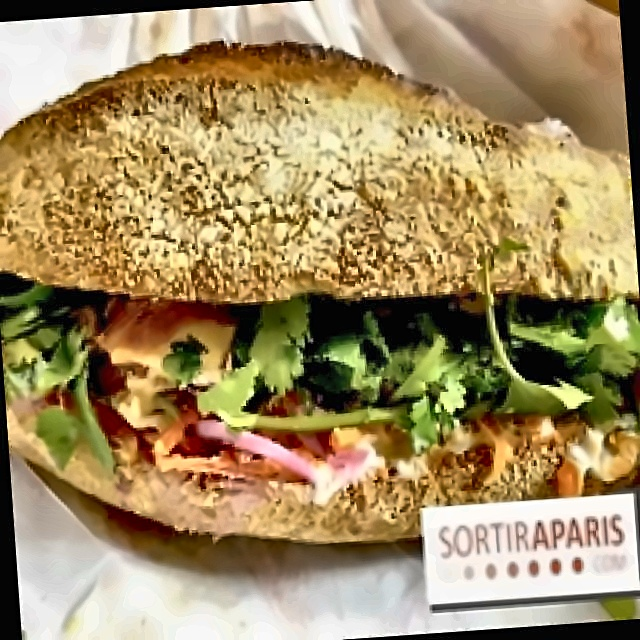bread: (0, 30, 639, 334)
